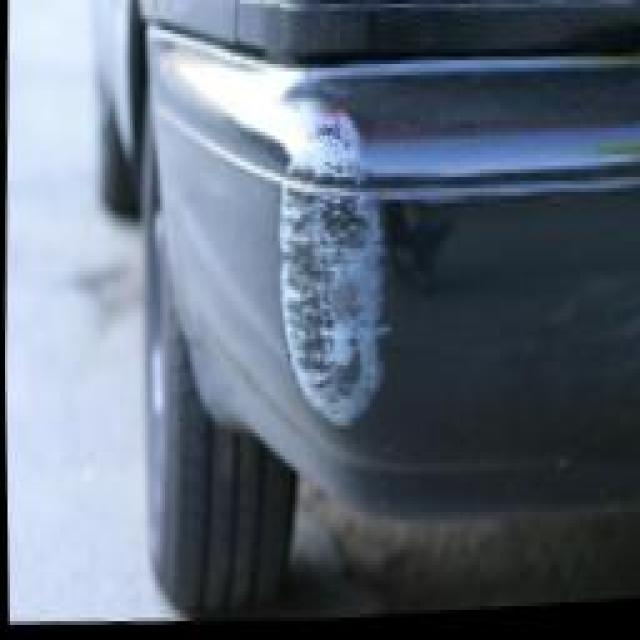Bumper: (170, 49, 639, 499)
